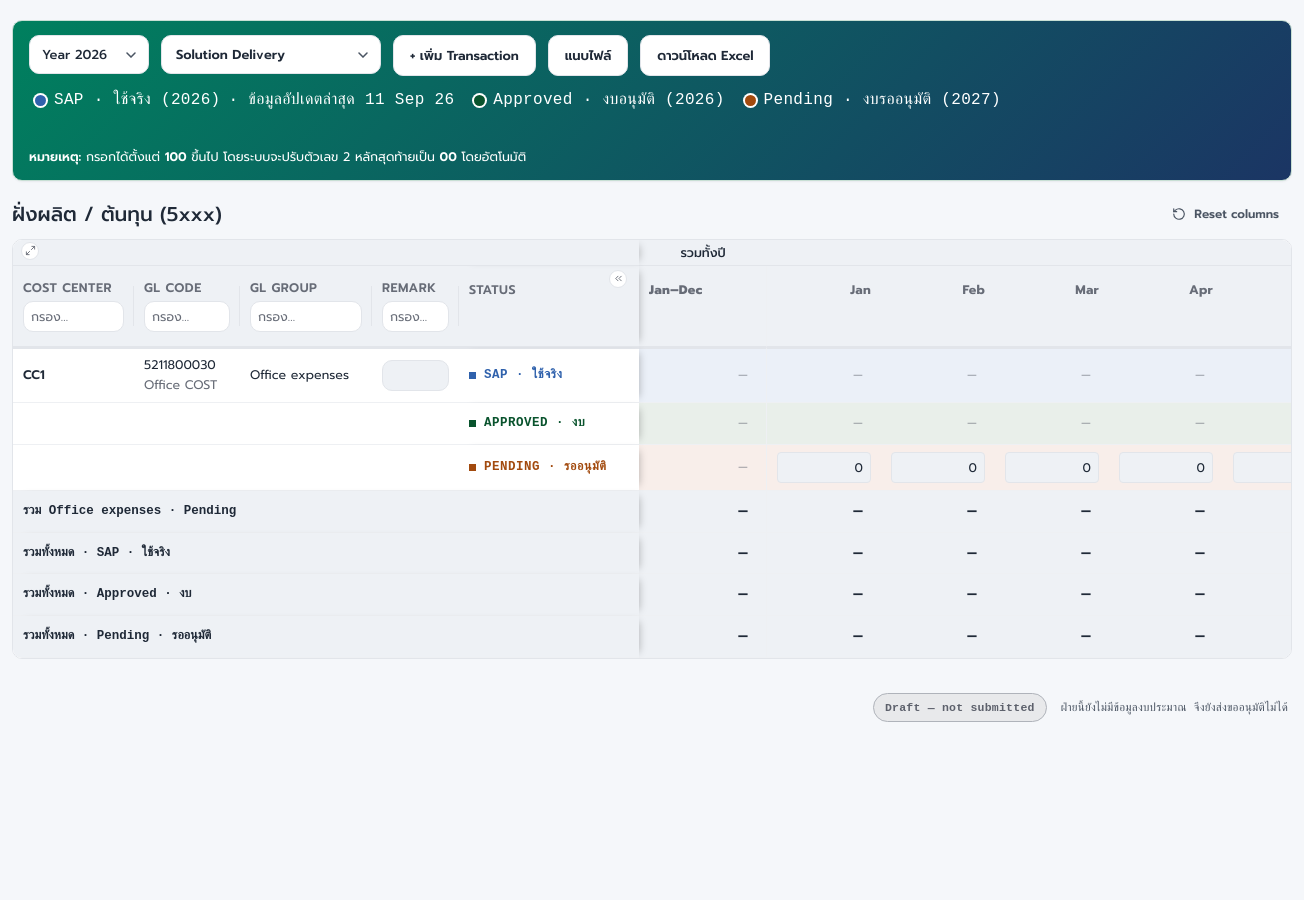
Test: BudgetGrid › a FAILED month-cell save (409) does not refresh the approval status
The width and height of the screenshot is (1304, 900).
Check: the text "ฝ่ายนี้ยังไม่มีข้อมูลงบประมาณ จึงยังส่งขออนุมัติไม่ได้" is shown, box 1061,699 -> 1288,716
Replace the text in the field with test id "pending-input-CC1-5211800030-m01" with "900" at (824, 467), box 777,452 -> 871,483
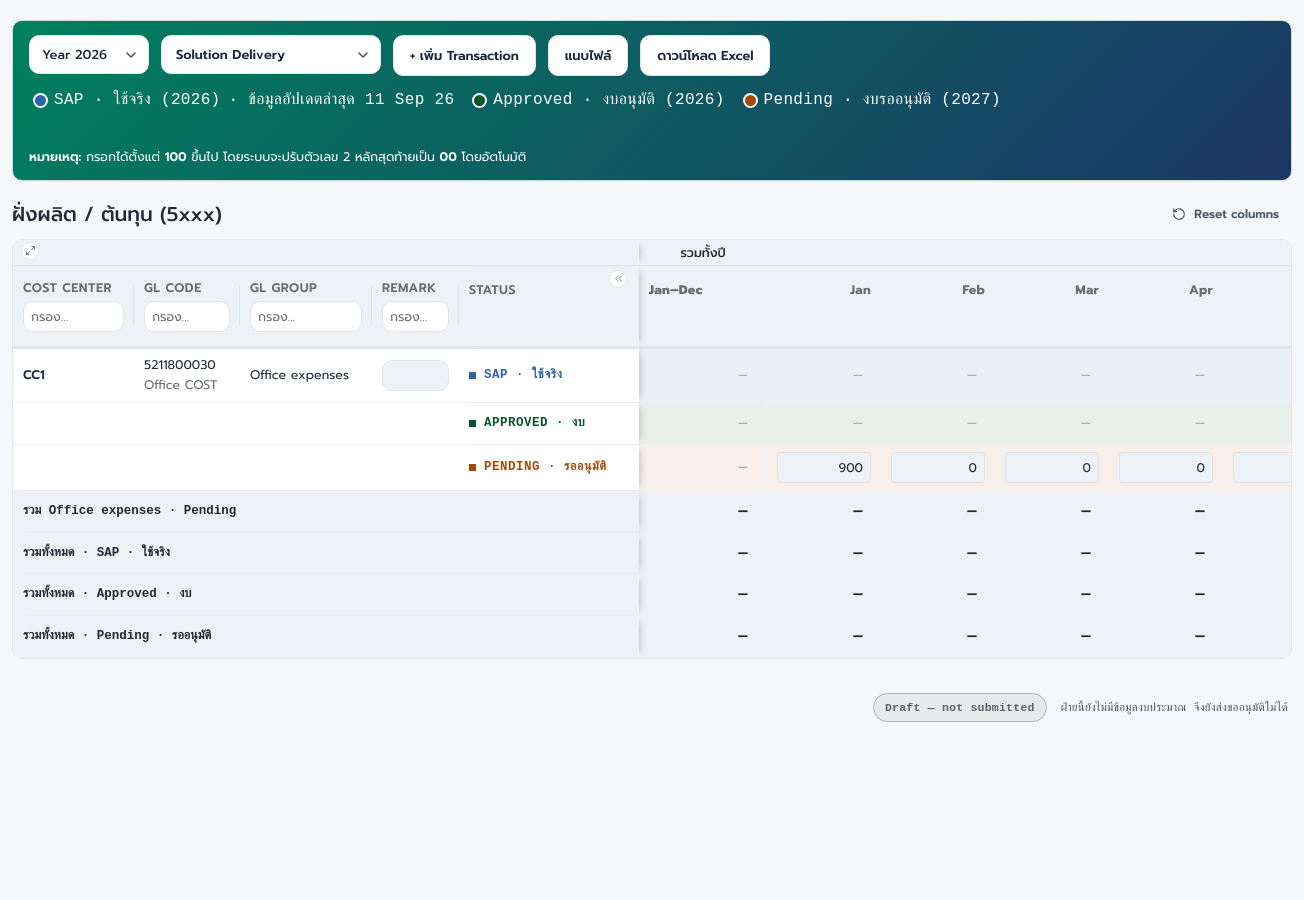
Leave the field with test id "pending-input-CC1-5211800030-m01", box 777,452 -> 871,483
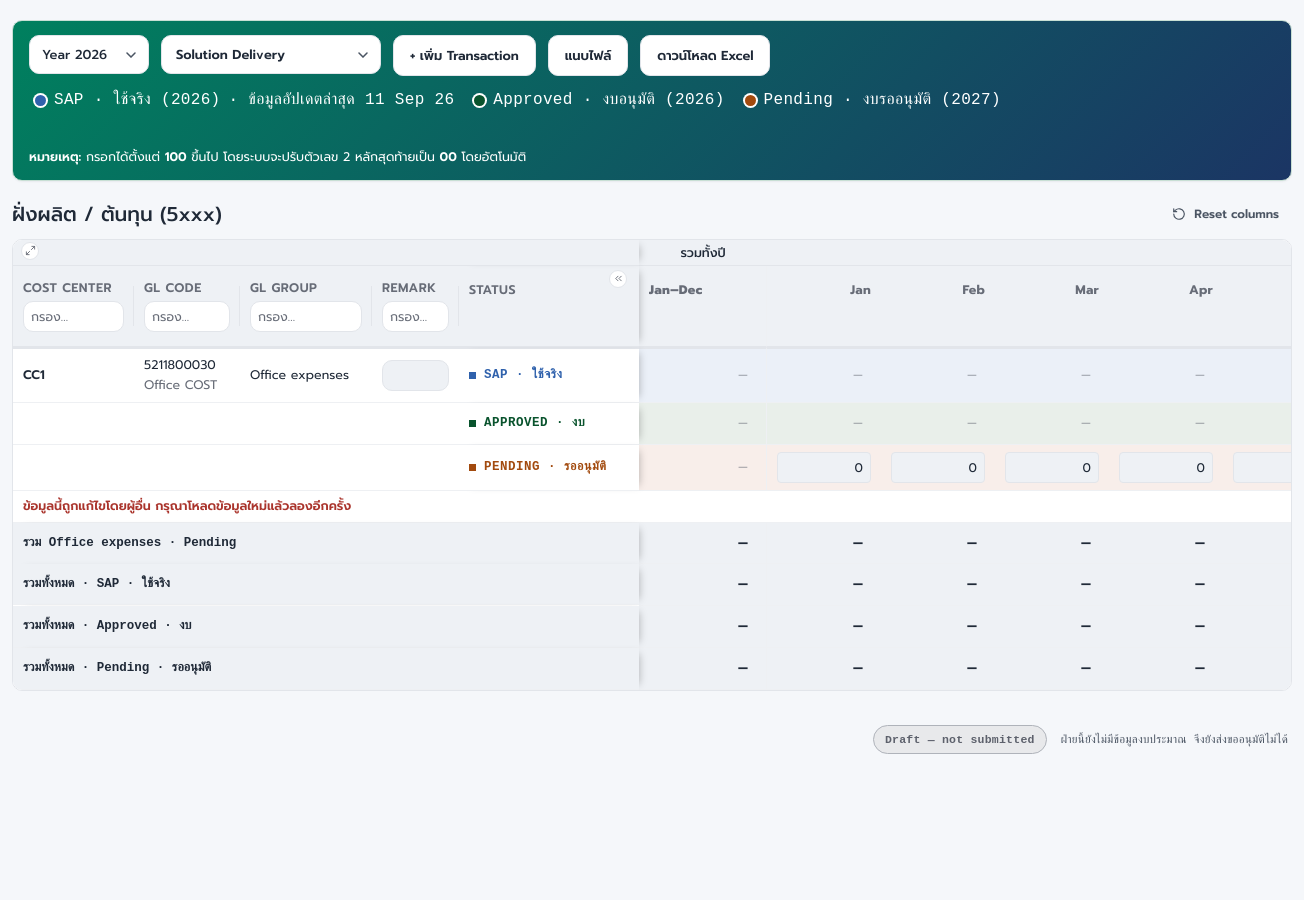
Check: the text "ฝ่ายนี้ยังไม่มีข้อมูลงบประมาณ จึงยังส่งขออนุมัติไม่ได้" is shown, box 1061,730 -> 1288,748
Check: the text "ถูกแก้ไขโดยผู้อื่น" is shown, box 23,496 -> 351,515
